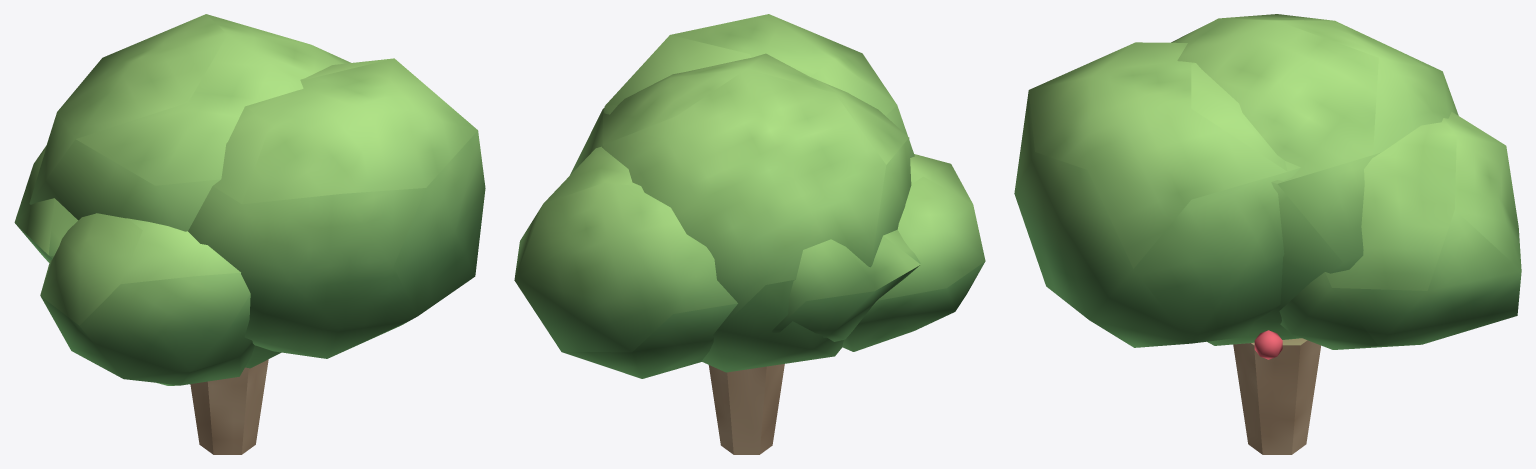
The model's file is bush.gltf.
The picture shows the model from 3 angles, left to right: view 1: azimuth 30°, elevation 25°; view 2: azimuth 150°, elevation 25°; view 3: azimuth 270°, elevation 25°; orthographic projection. The views are drawn at different scales.
Visible parts, largest first — view 1: bush; view 2: bush; view 3: bush.
Part boxes in pixels (x1,y1,x2,y2): bush: [14, 14, 485, 454]; bush: [514, 14, 985, 454]; bush: [1014, 14, 1521, 454].
Size of the model in its own units: 0.8039 by 0.803 by 0.8718.
Materials: 1 (1 with a texture image).
